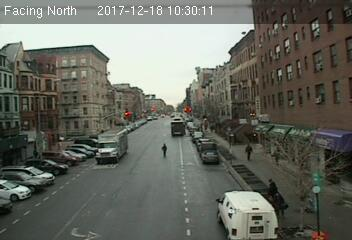car: (202, 150, 216, 162)
pedestrian: (160, 142, 168, 157)
truck: (217, 190, 279, 240), (95, 129, 127, 160)
ups: (170, 120, 186, 138)
